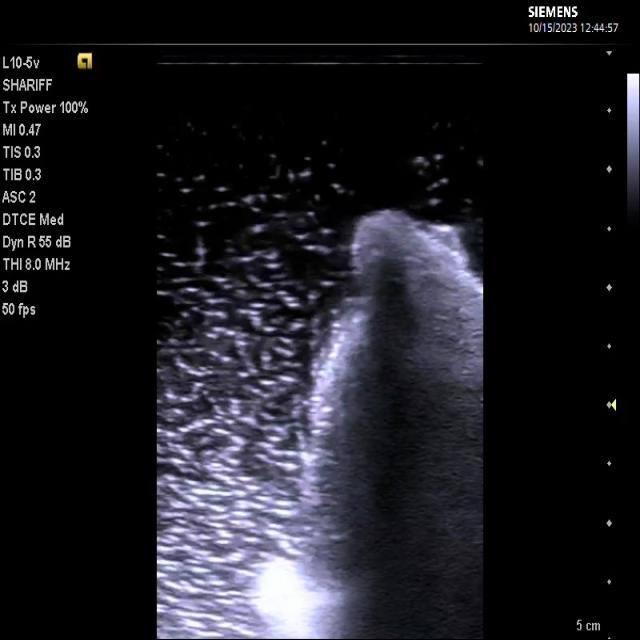tissue: (258, 210, 483, 639)
